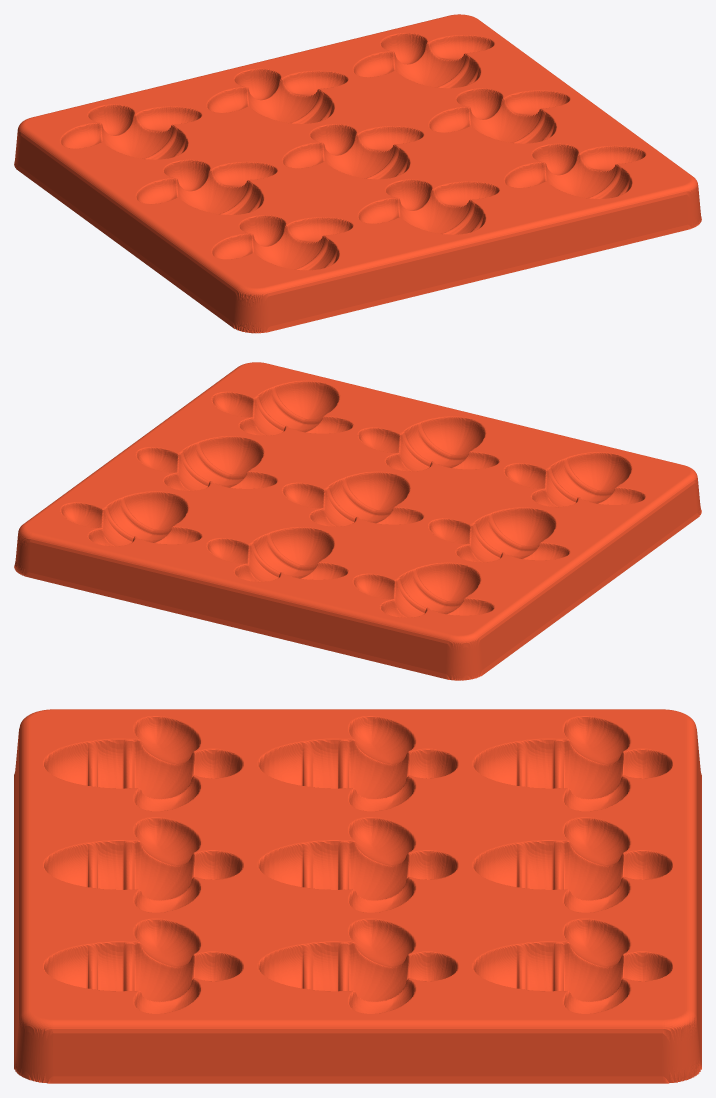
File: mold.glb
The picture shows the model from 3 angles, top to bottom: view 1: azimuth 30°, elevation 25°; view 2: azimuth 150°, elevation 25°; view 3: azimuth 270°, elevation 25°; orthographic projection. The views are drawn at different scales.
Visible parts, largest first — view 1: geometry_0; view 2: geometry_0; view 3: geometry_0.
Part boxes in pixels (x1,y1,x2,y2): geometry_0: (14,14,701,333); geometry_0: (14,362,701,680); geometry_0: (14,709,701,1083).
Size of the model in its own units: 0.1749 by 0.0145 by 0.1577.
